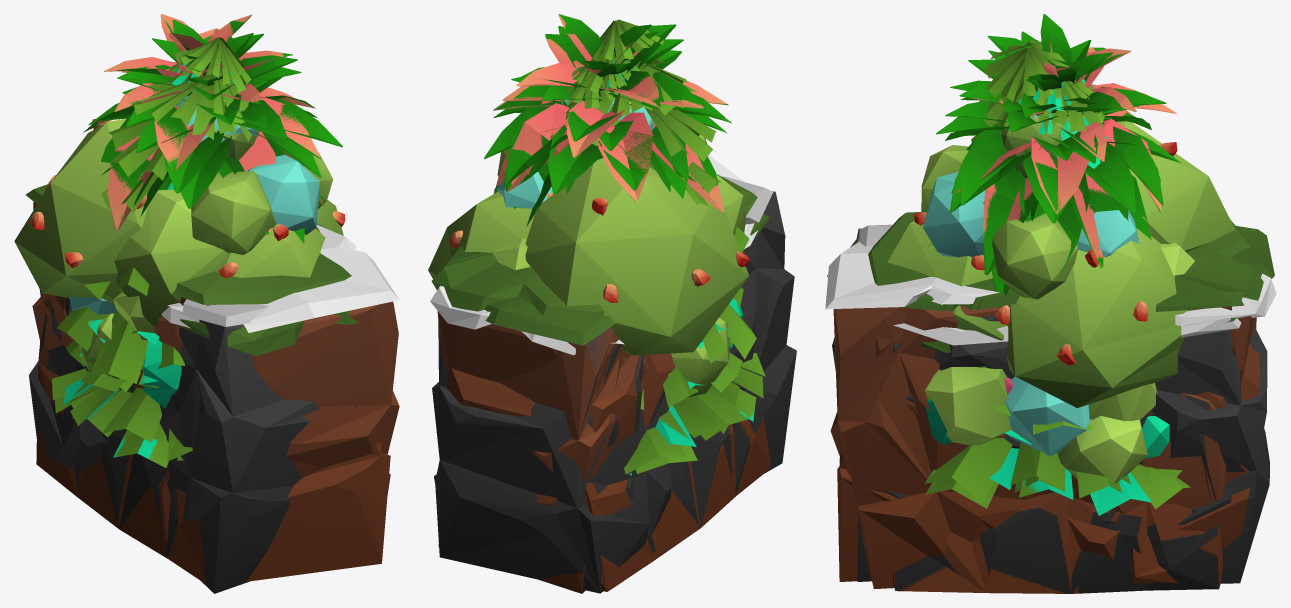
Rendered from KitNaturaleza.fbx.
3 renders of one model, left to right at view 1: azimuth 30°, elevation 25°; view 2: azimuth 150°, elevation 25°; view 3: azimuth 270°, elevation 25°, orthographic. The views are drawn at different scales.
Visible parts, largest first — view 1: ClifBi1, ClifGg2, ClifGi1, TreeRF, TreeV2, TreeDC, TreeR2, TreeR3, TreeD3, TreeD2, TreeRC3, ClifBg2 (+8 smaller); view 2: ClifBi1, TreeRF, ClifGg2, TreeV2, ClifGg3, TreeDC, ClifGi1, TreeD3, TreeD1, ClifBg2, TreeD2, TreeV3 (+6 smaller); view 3: ClifGi1, TreeRF, ClifBi1, TreeR3, ClifBg1, ClifGg2, ClifGg3, TreeV2, TreeRC3, TreeD3, TreeD1, TreeD2 (+8 smaller).
Part boxes in pixels (<box>): ClifBi1: <box>29,299,319,593</box>; ClifGg2: <box>36,224,390,583</box>; ClifGi1: <box>154,224,399,495</box>; TreeRF: <box>14,118,345,305</box>; TreeV2: <box>55,37,251,461</box>; TreeDC: <box>83,14,324,234</box>; TreeR2: <box>114,189,227,325</box>; TreeR3: <box>113,101,333,340</box>; TreeD3: <box>101,33,342,243</box>; TreeD2: <box>88,19,321,216</box>; TreeRC3: <box>69,89,319,314</box>; ClifBg2: <box>46,223,328,556</box>; ClifBi1: <box>432,176,796,593</box>; TreeRF: <box>428,157,750,355</box>; ClifGg2: <box>431,174,770,591</box>; TreeV2: <box>585,19,765,473</box>; ClifGg3: <box>438,223,759,593</box>; TreeDC: <box>493,14,727,212</box>; ClifGi1: <box>430,155,757,381</box>; TreeD3: <box>484,26,727,226</box>; TreeD1: <box>494,14,728,212</box>; ClifBg2: <box>451,196,752,554</box>; TreeD2: <box>493,31,731,193</box>; TreeV3: <box>560,68,739,474</box>; ClifGi1: <box>825,241,1276,588</box>; TreeRF: <box>887,121,1235,408</box>; ClifBi1: <box>832,224,1269,583</box>; TreeR3: <box>921,115,1156,445</box>; ClifBg1: <box>827,226,1274,593</box>; ClifGg2: <box>837,212,1263,581</box>; ClifGg3: <box>893,226,1274,593</box>; TreeV2: <box>925,40,1190,509</box>; TreeRC3: <box>923,115,1139,455</box>; TreeD3: <box>929,40,1180,278</box>; TreeD1: <box>925,14,1160,275</box>; TreeD2: <box>945,31,1166,307</box>.
Size of the model in its own units: 714 by 1149 by 921.
